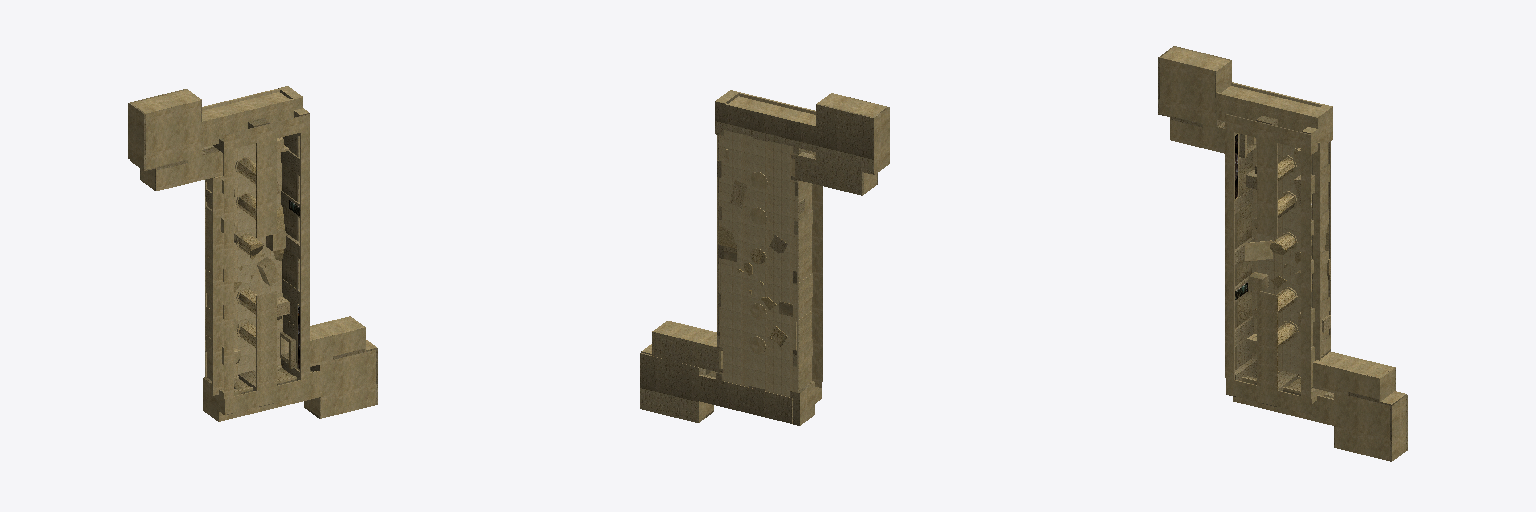
3 views of the same model, side by side, from view 1: azimuth 30°, elevation 25°; view 2: azimuth 150°, elevation 25°; view 3: azimuth 330°, elevation 25° (orthographic).
Visible parts, largest first — view 1: Model_0000; view 2: Model_0000; view 3: Model_0000.
Part boxes in pixels (x1,y1,x2,y2): Model_0000: (128, 86, 377, 421); Model_0000: (640, 90, 889, 425); Model_0000: (1158, 46, 1407, 461).
Bounding box in the file's own units: 1757 × 2497 × 306.
Materials: 20 (20 with a texture image).